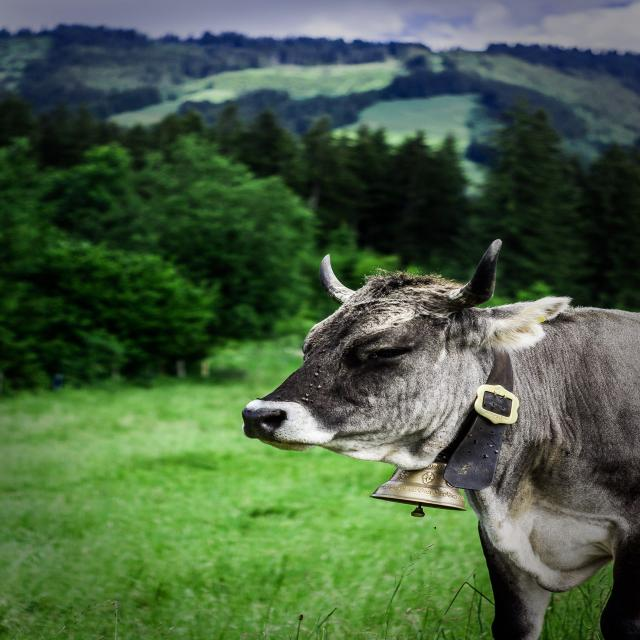cow: (242, 240, 639, 640)
